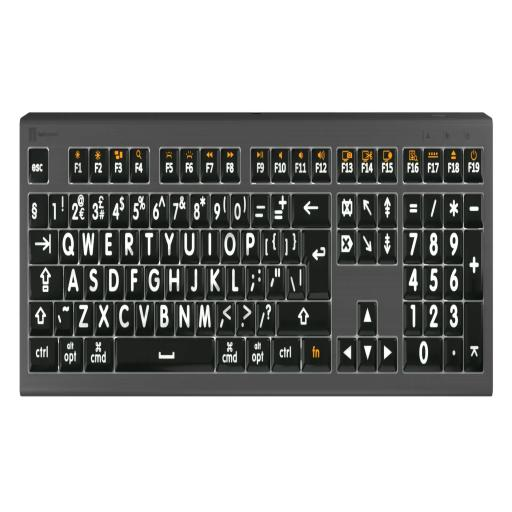keyboard: (19, 107, 496, 408)
